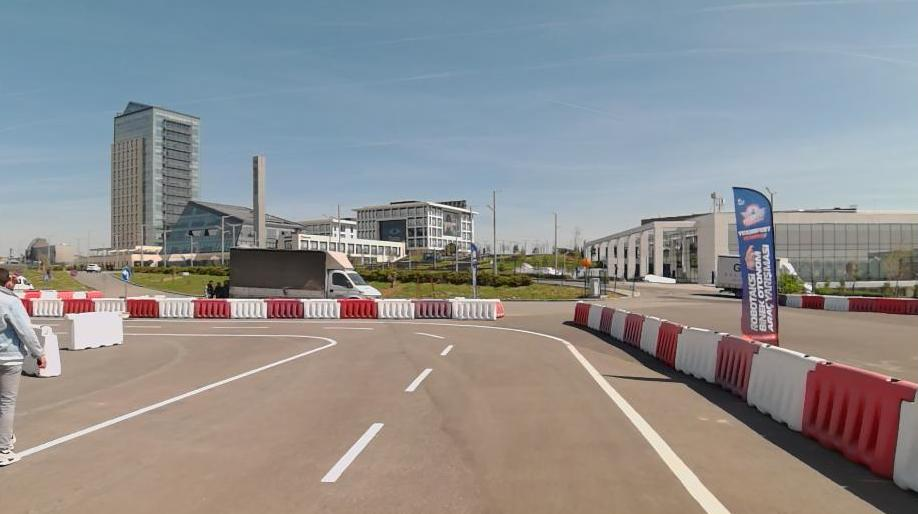nesne: (2, 316, 732, 512), (124, 317, 730, 514), (125, 318, 730, 513), (0, 324, 452, 514), (22, 332, 335, 456), (801, 359, 917, 479), (0, 266, 47, 465), (226, 246, 382, 296), (746, 343, 818, 431), (322, 421, 384, 482), (714, 334, 760, 397), (891, 386, 917, 492), (674, 325, 720, 380), (63, 311, 123, 352), (23, 323, 62, 378), (655, 321, 683, 365), (639, 316, 663, 356), (453, 298, 495, 319), (411, 299, 451, 320), (337, 298, 377, 318), (263, 298, 302, 317), (300, 298, 338, 317), (226, 298, 266, 316), (192, 297, 228, 317), (405, 368, 434, 392), (623, 311, 642, 347), (377, 298, 413, 317), (156, 298, 191, 316), (126, 299, 159, 315), (94, 298, 127, 314), (31, 298, 62, 315), (610, 309, 626, 340), (64, 298, 92, 315), (599, 306, 613, 335), (573, 301, 588, 326), (588, 303, 601, 329), (214, 325, 267, 329), (415, 332, 442, 338), (440, 344, 453, 355), (121, 268, 130, 283), (324, 326, 368, 329), (125, 325, 161, 328)
